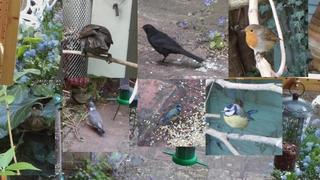blackbird: (139, 24, 204, 67)
blue tit: (221, 103, 258, 139), (162, 103, 182, 122)
robin: (241, 24, 284, 62)
starling: (80, 24, 114, 65)
wood pigeon: (88, 102, 105, 134)
